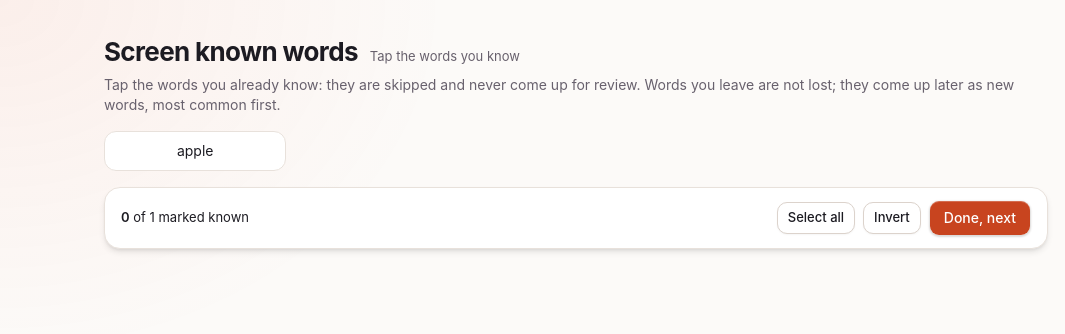
Test: ScreenApp › says so when most were known and the next batch skips ahead
Click the button "apple".
click(195, 151)  # box [104,131,286,171]
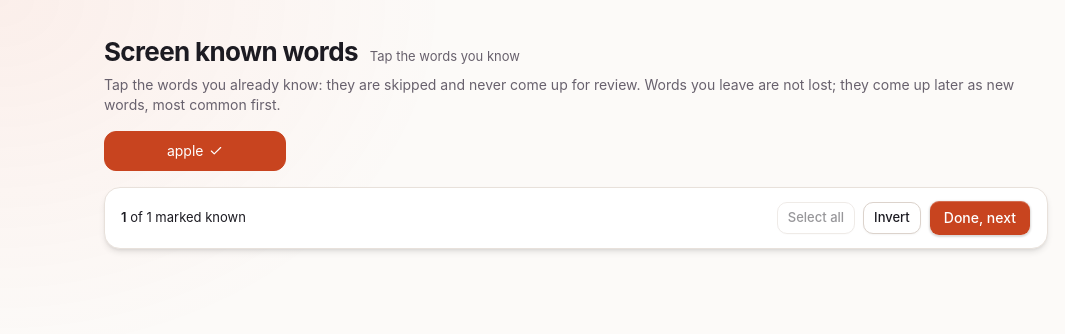
Click the button "Done, next".
click(980, 218)  # box [929,200,1031,236]
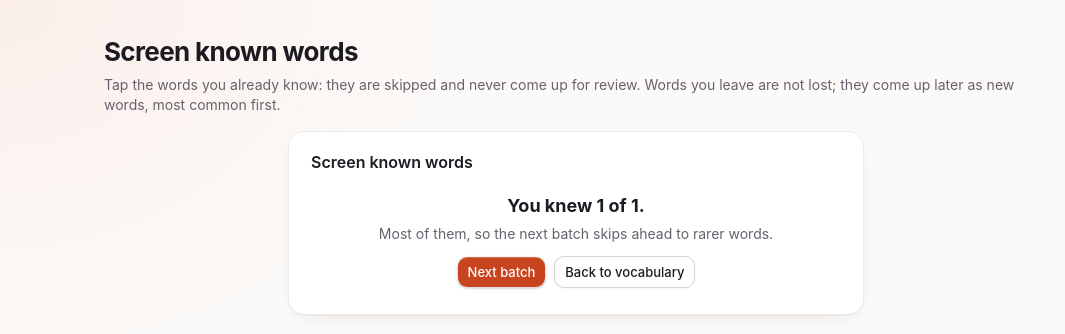
Result: the element with test id "screen-result" shows "skips ahead" at [379,225,773,242]
